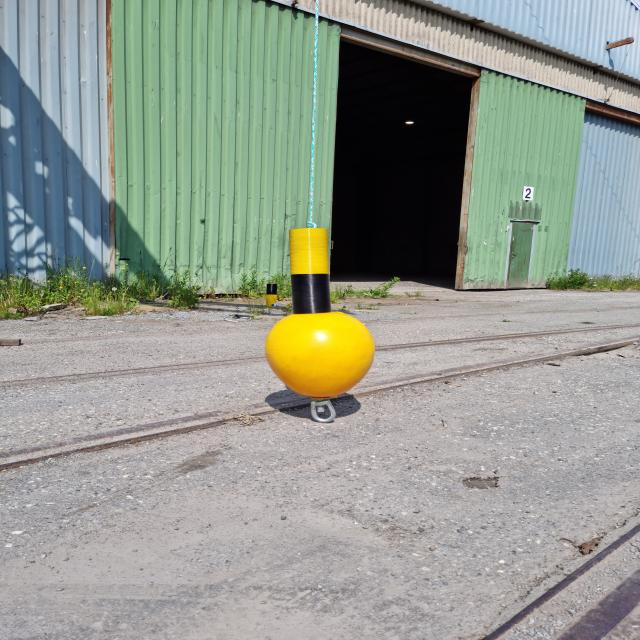west: (265, 225, 376, 399)
